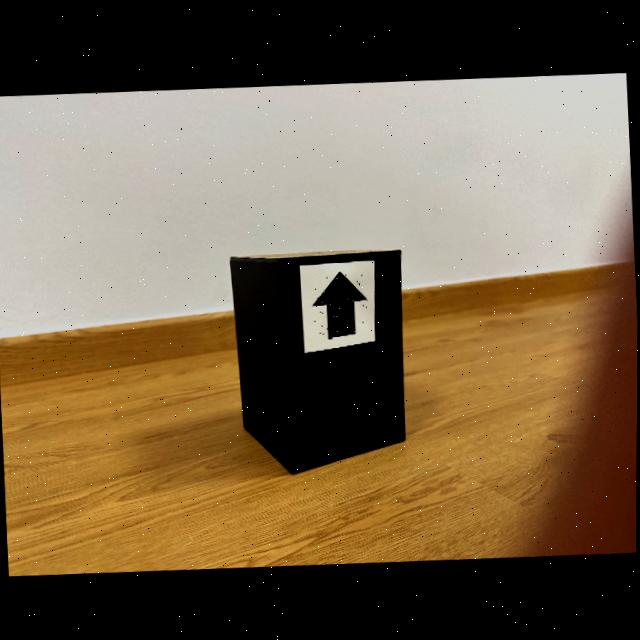UP: (314, 271, 367, 337)
